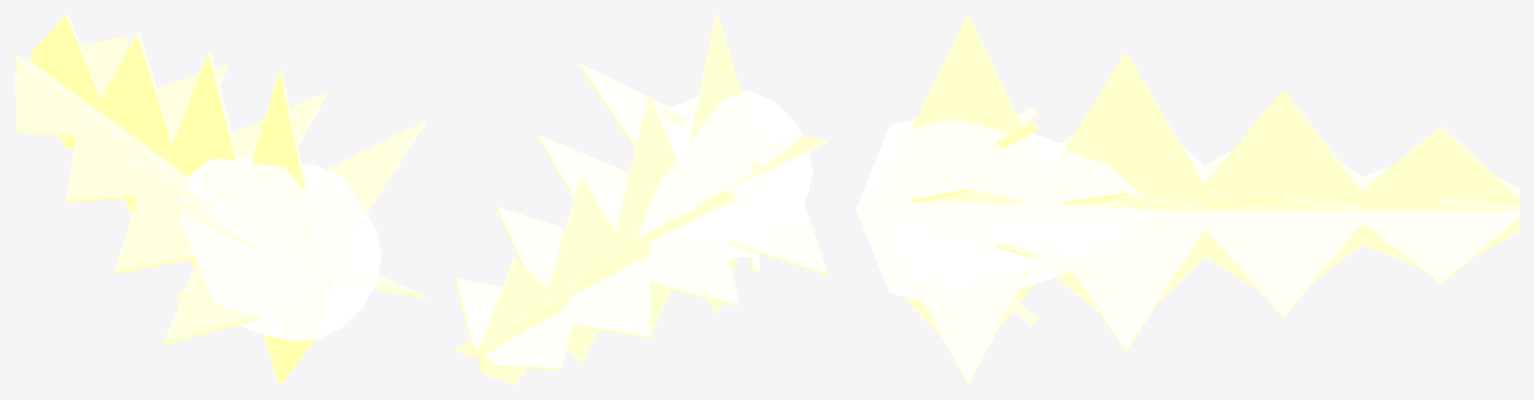
Rendered from clarao_boca.glb.
The picture shows the model from 3 angles, left to right: view 1: azimuth 30°, elevation 25°; view 2: azimuth 150°, elevation 25°; view 3: azimuth 270°, elevation 25°; orthographic projection. The views are drawn at different scales.
Visible parts, largest first — view 1: clarao_boca_clarao, clarao_boca_clarao_nucleo; view 2: clarao_boca_clarao, clarao_boca_clarao_nucleo; view 3: clarao_boca_clarao, clarao_boca_clarao_nucleo.
Boxes of the visible parts, left/top/right/bottom form: clarao_boca_clarao: left=14, top=14, right=426, bottom=385; clarao_boca_clarao_nucleo: left=178, top=157, right=381, bottom=340; clarao_boca_clarao: left=455, top=14, right=827, bottom=385; clarao_boca_clarao_nucleo: left=638, top=90, right=812, bottom=258; clarao_boca_clarao: left=856, top=14, right=1519, bottom=385; clarao_boca_clarao_nucleo: left=856, top=119, right=1154, bottom=300.
Size of the model in its own units: 0.04 by 0.046 by 0.079.
